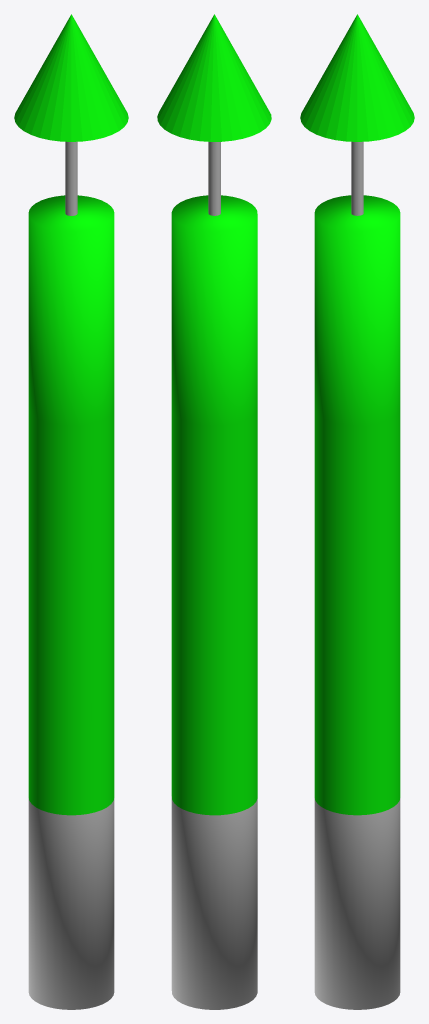
The model's file is Bcn-Starboard.gltf.
3 renders of one model, left to right at view 1: azimuth 90°, elevation 25°; view 2: azimuth 210°, elevation 25°; view 3: azimuth 270°, elevation 25°, orthographic.
Parts seen in each view (by area): view 1: Cylinder.028, Cone.001, Axe.007; view 2: Cylinder.028, Cone.001, Axe.007; view 3: Cylinder.028, Cone.001, Axe.007.
Part boxes in pixels (x1,y1,x2,y2): Cylinder.028: (28, 195, 114, 1009); Cone.001: (14, 14, 128, 141); Axe.007: (65, 141, 77, 215); Cylinder.028: (171, 195, 257, 1009); Cone.001: (157, 14, 271, 141); Axe.007: (208, 142, 220, 215); Cylinder.028: (314, 195, 400, 1009); Cone.001: (300, 14, 414, 141); Axe.007: (351, 141, 363, 215).
Bounding box in the file's own units: 0.5334 × 5.02 × 0.5334.
